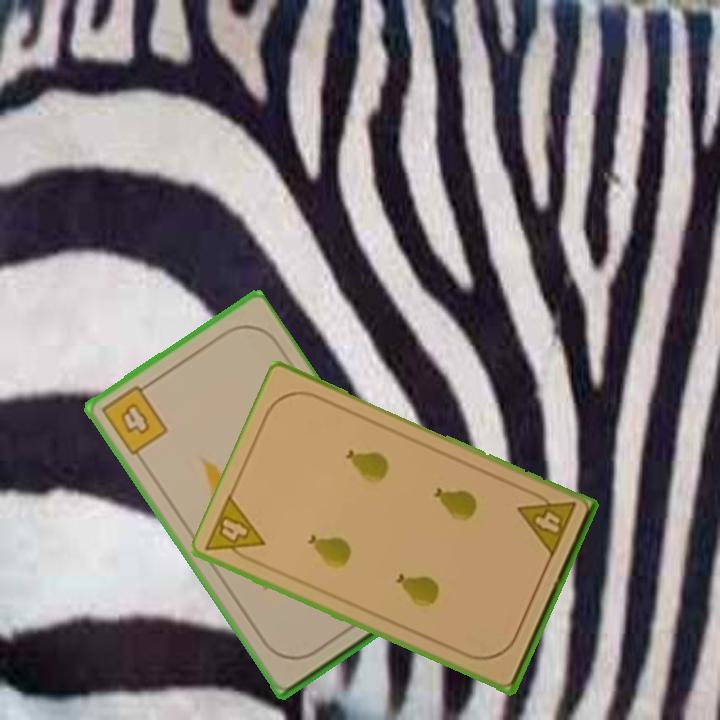4b: (97, 378, 171, 458)
4p: (202, 491, 268, 569), (514, 486, 579, 560)
